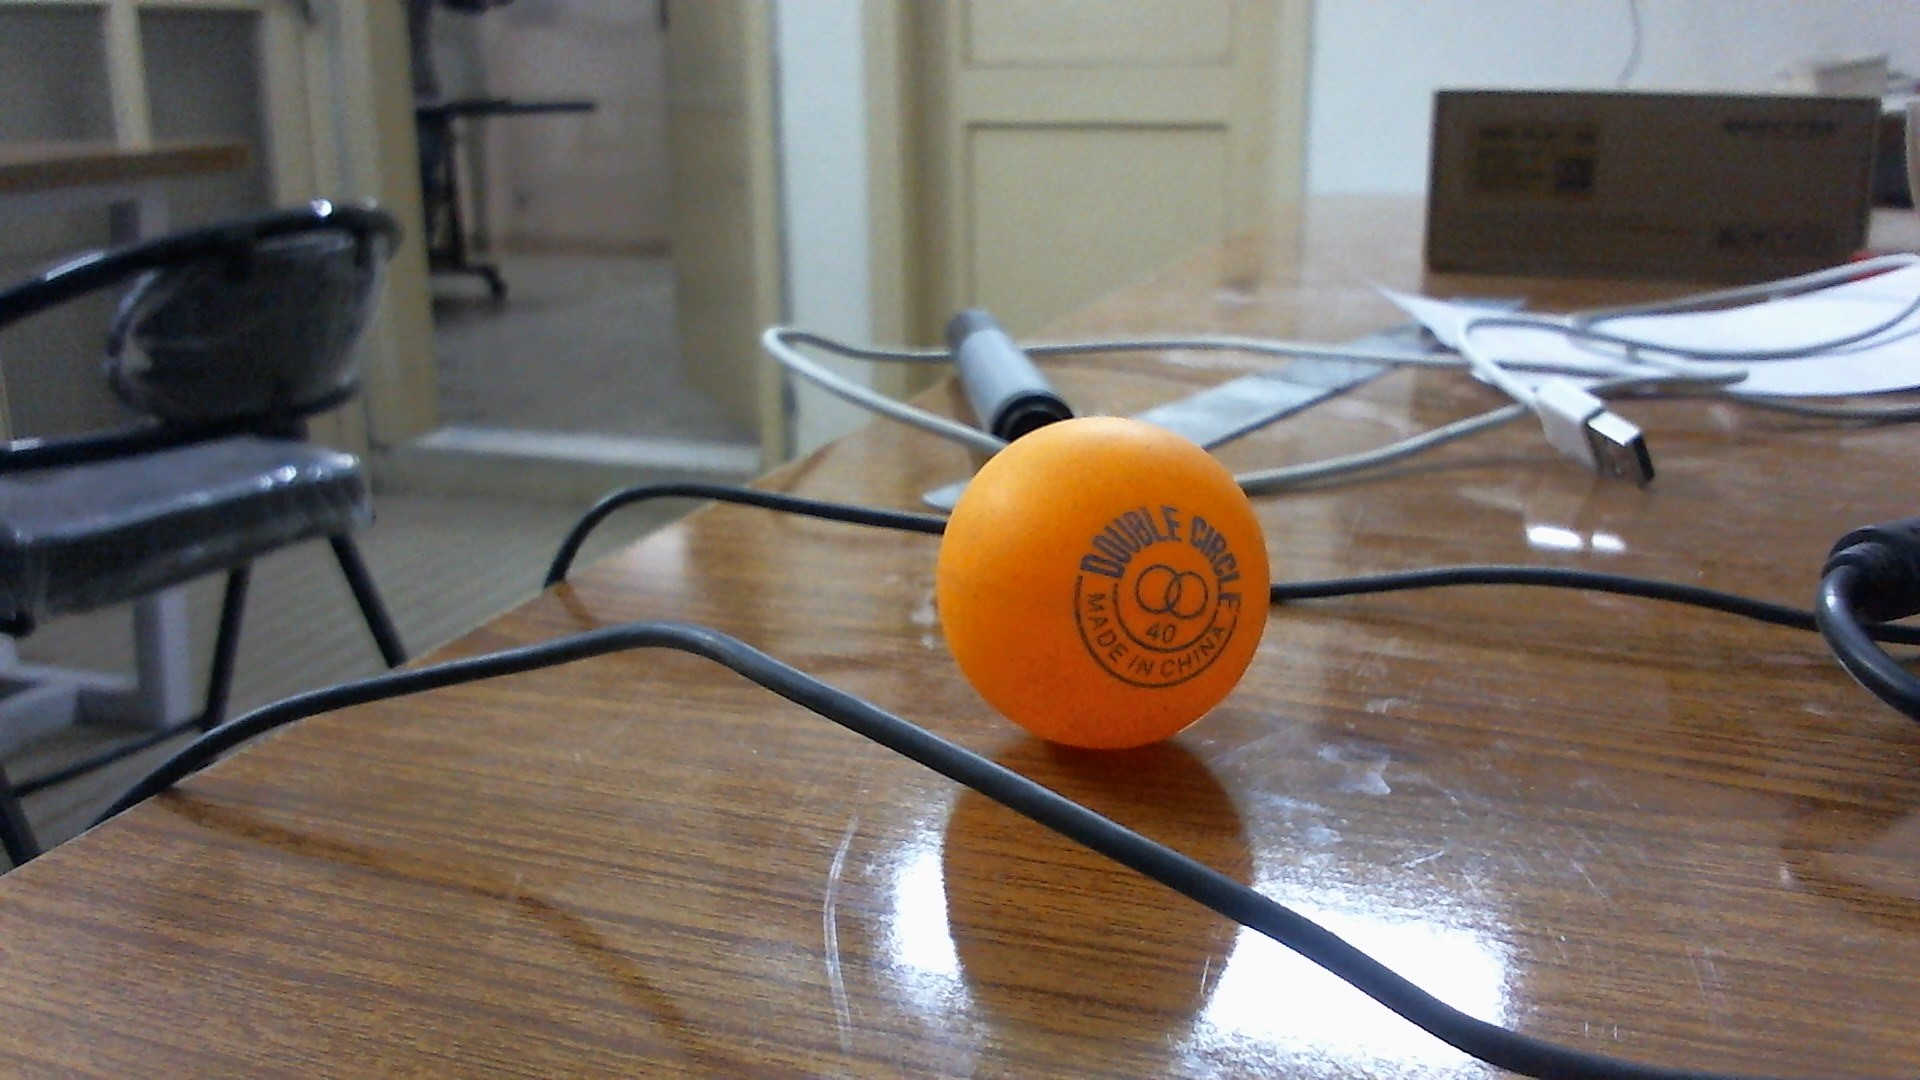ball: (931, 415, 1273, 752)
